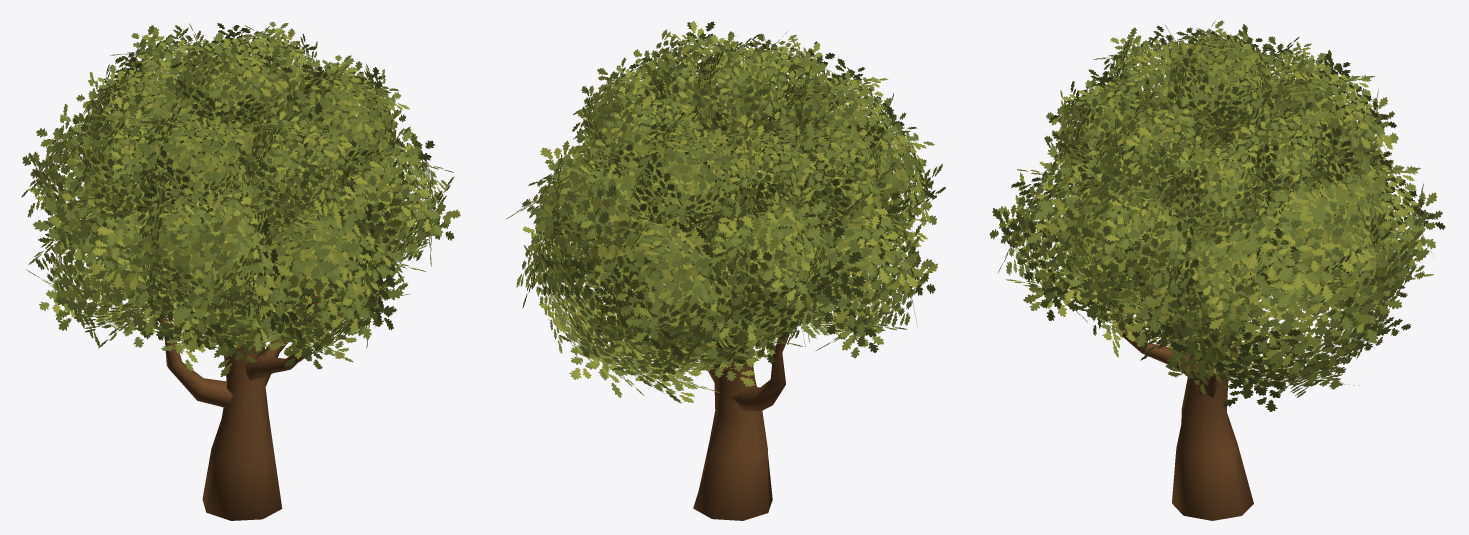
Rendered from Oak_Tree_3.fbx.
3 views of the same model, side by side, from view 1: azimuth 30°, elevation 25°; view 2: azimuth 150°, elevation 25°; view 3: azimuth 270°, elevation 25° (orthographic).
Visible parts, largest first — view 1: Oak_Tree_3; view 2: Oak_Tree_3; view 3: Oak_Tree_3.
Part boxes in pixels (x1,y1,x2,y2): Oak_Tree_3: (21, 22, 460, 520); Oak_Tree_3: (506, 21, 945, 520); Oak_Tree_3: (989, 20, 1445, 520).
Size of the model in its own units: 548 by 642 by 575.
Materials: 2 (2 with a texture image).
